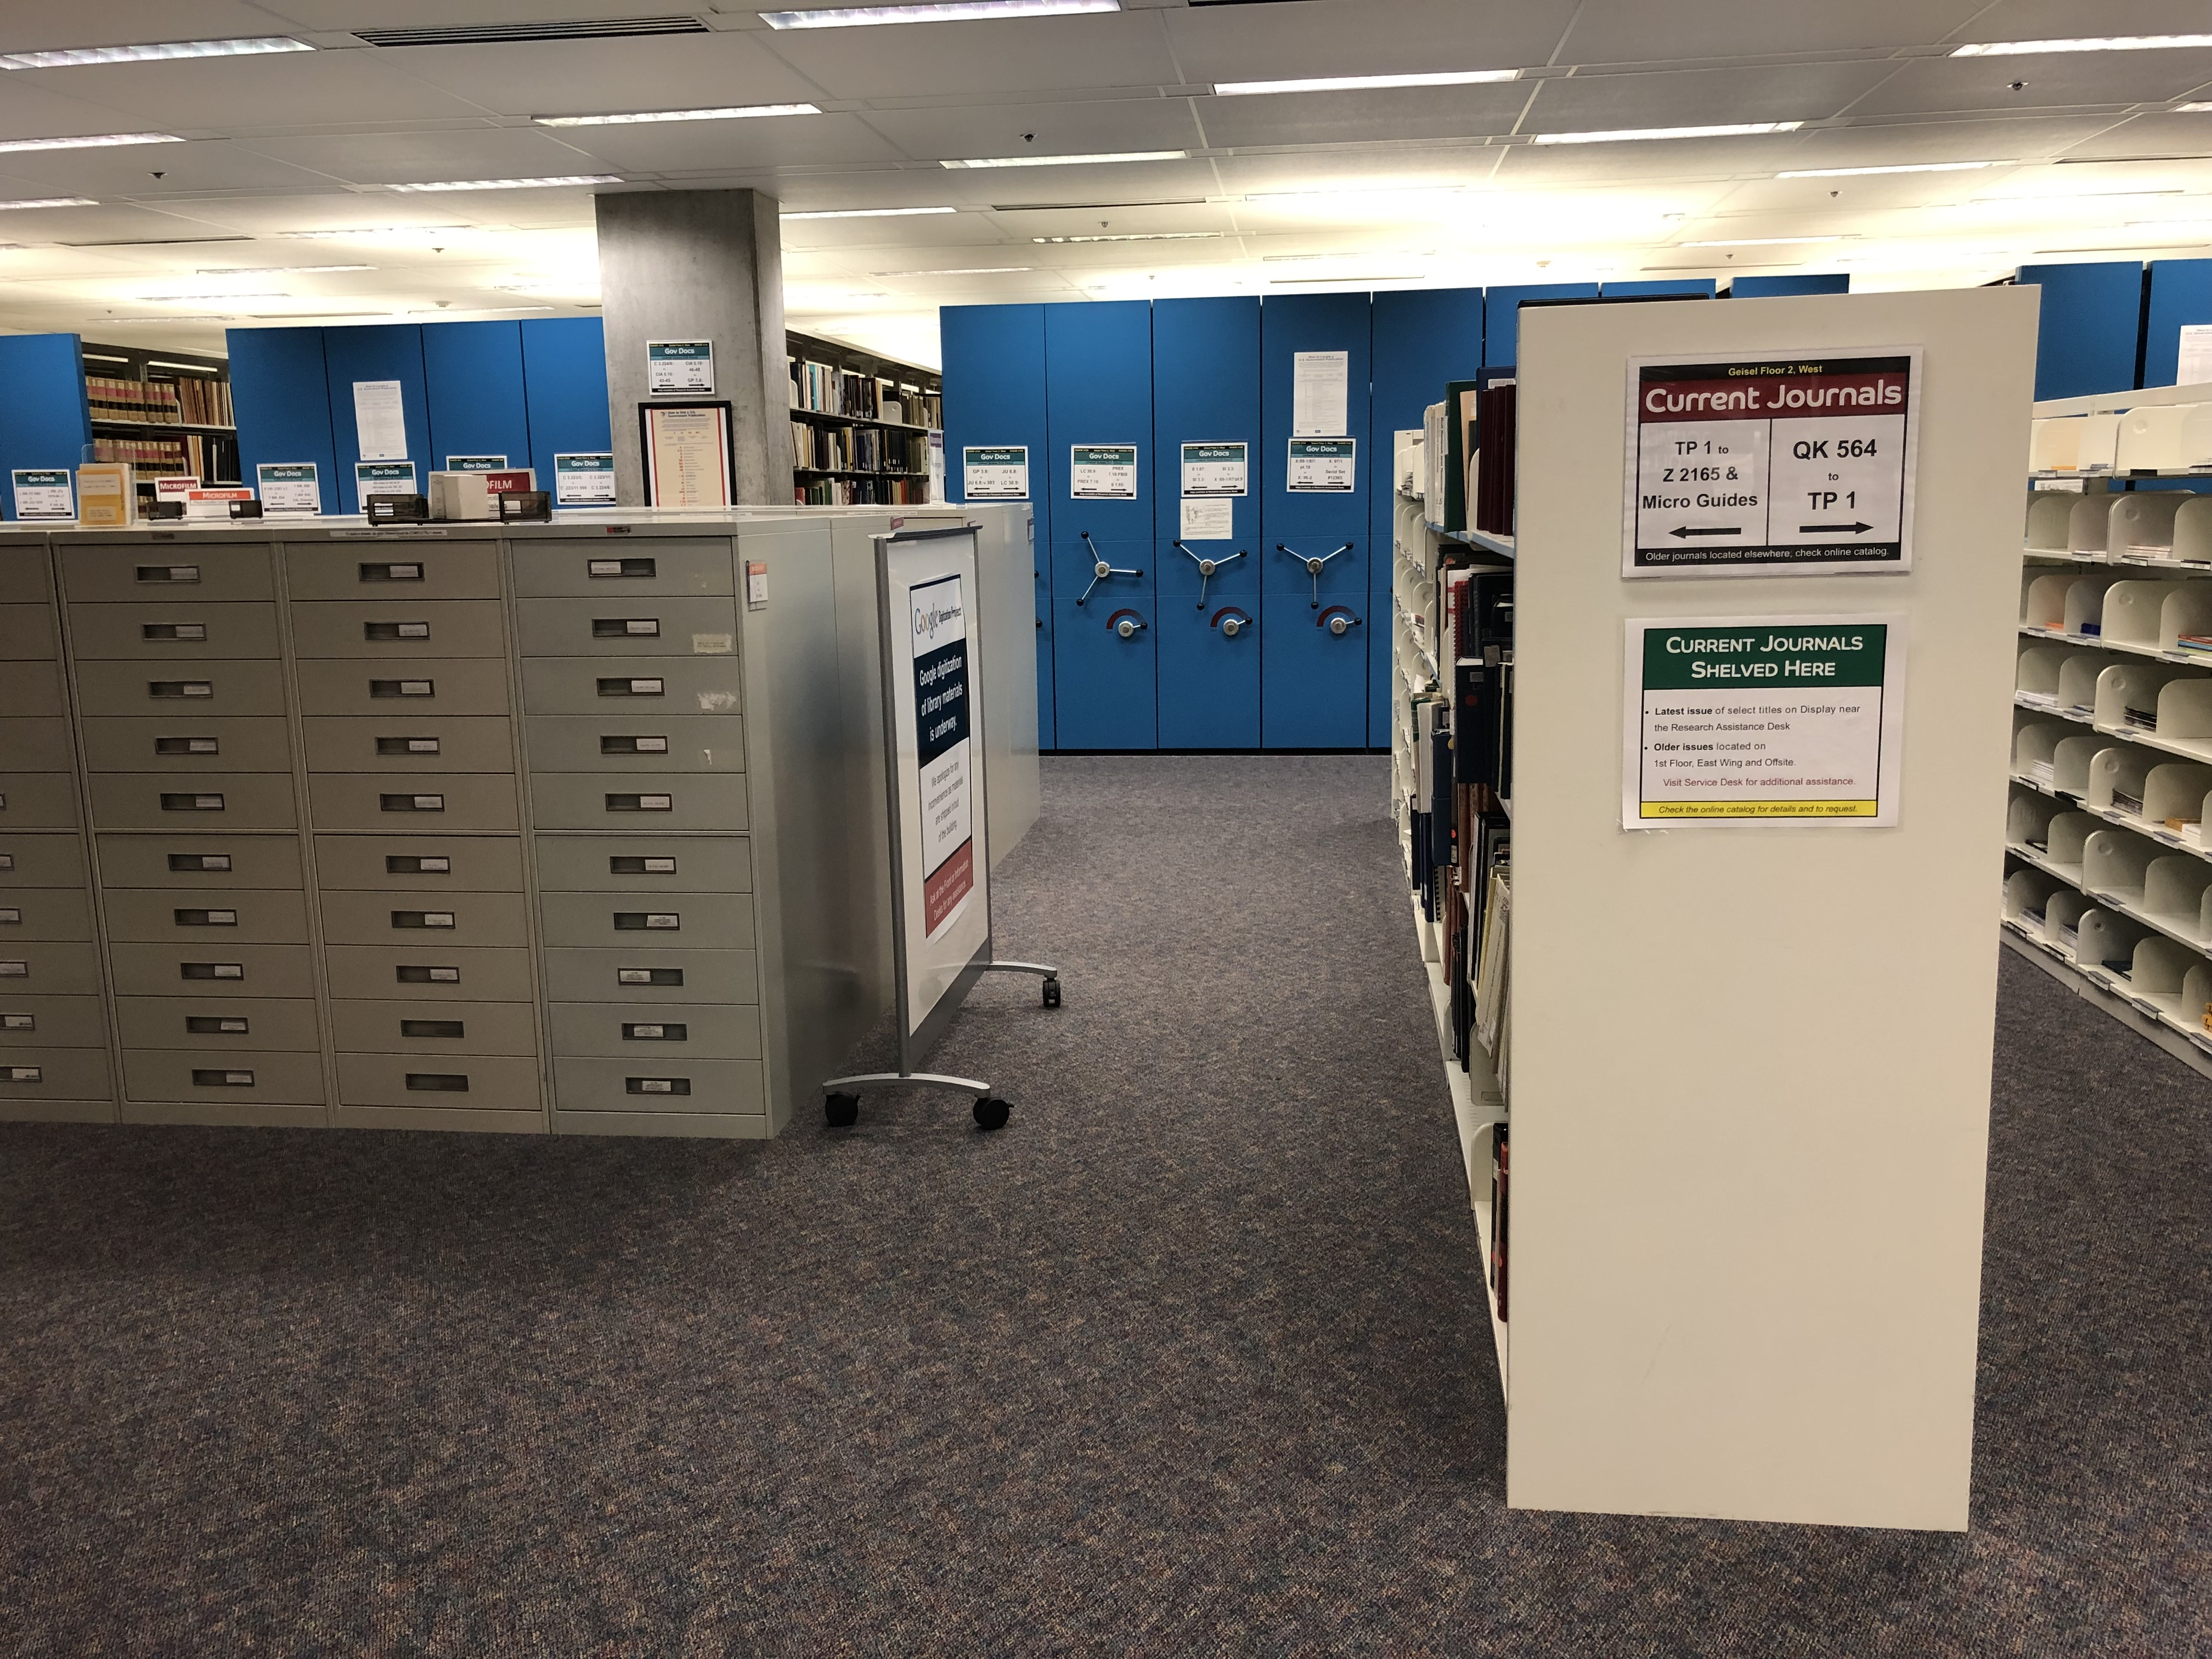Obstacle: (1399, 288, 1998, 1546), (16, 525, 812, 1152), (820, 518, 1064, 1133)
